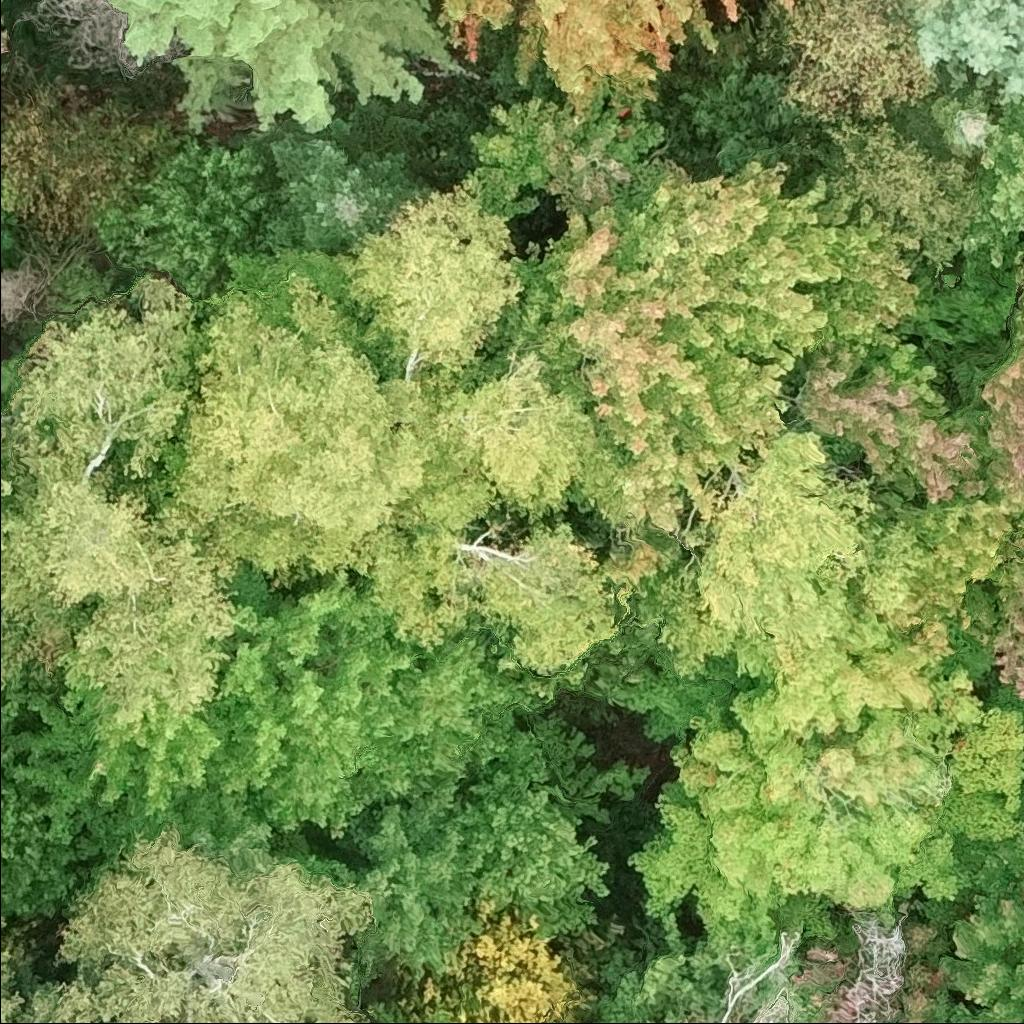crown: (474, 148, 927, 537), (11, 576, 535, 859), (627, 641, 1023, 944), (0, 272, 239, 736), (149, 243, 442, 590), (636, 393, 926, 688), (51, 825, 380, 1023), (110, 0, 462, 136), (391, 346, 628, 536), (322, 177, 527, 380), (361, 520, 624, 677), (780, 337, 1001, 507), (227, 73, 439, 250), (434, 0, 724, 118), (327, 776, 484, 987), (457, 718, 610, 934), (89, 122, 276, 297), (872, 479, 1023, 678), (0, 81, 183, 245), (462, 90, 665, 229), (420, 891, 630, 1023), (817, 114, 982, 269), (0, 701, 82, 926), (956, 89, 1023, 269), (886, 898, 979, 1023), (939, 892, 1023, 1023), (887, 67, 999, 161), (0, 922, 101, 1023), (13, 0, 142, 78), (788, 922, 871, 1023), (976, 335, 1023, 496), (989, 562, 1023, 700), (0, 609, 26, 707), (0, 203, 26, 255), (0, 455, 20, 514), (0, 0, 11, 80), (1017, 246, 1023, 352), (715, 0, 739, 25), (771, 0, 793, 16), (1019, 513, 1023, 527)
